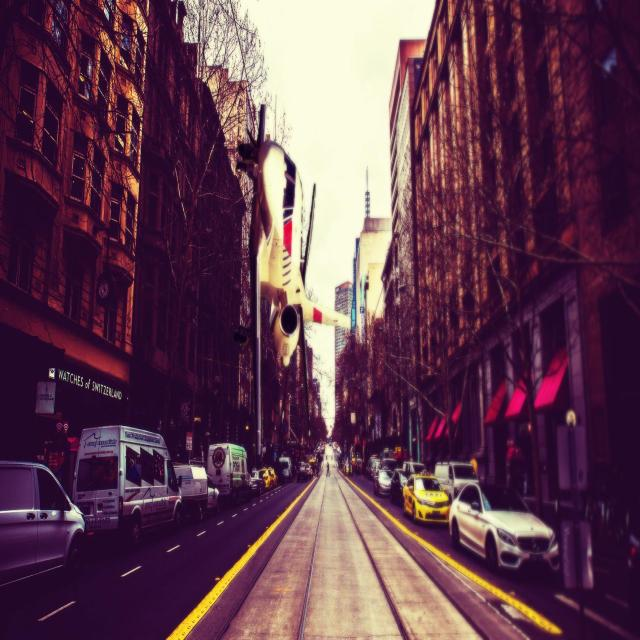airplane: (235, 103, 352, 368)
